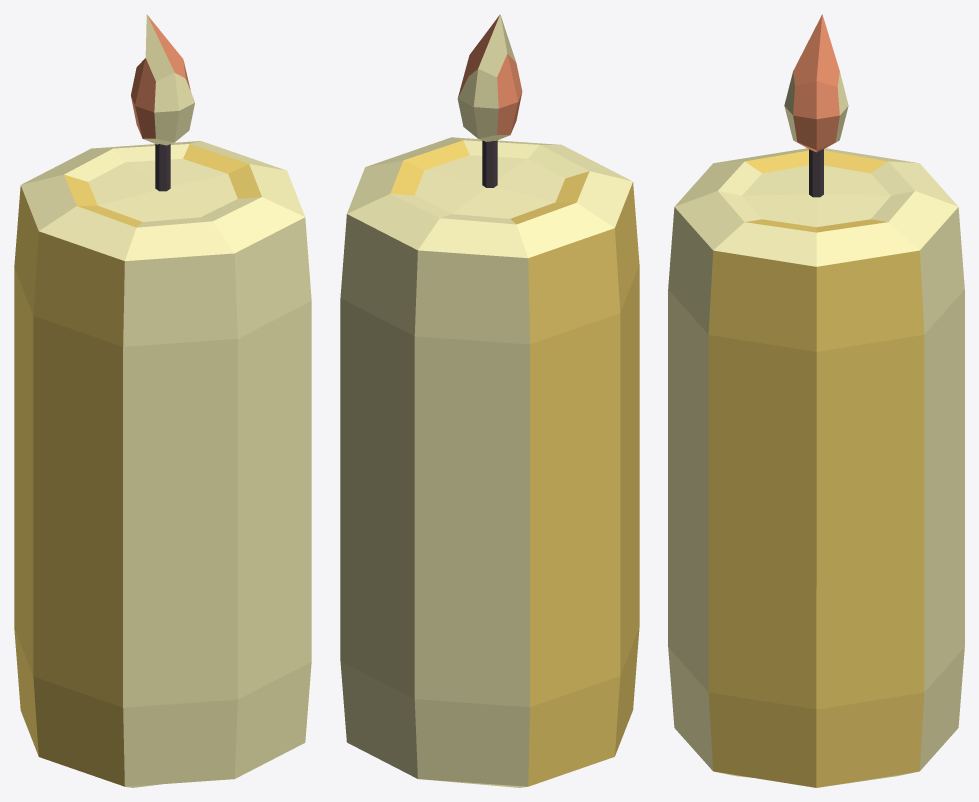
Rendered from Candle.fbx.
3 renders of one model, left to right at view 1: azimuth 30°, elevation 25°; view 2: azimuth 150°, elevation 25°; view 3: azimuth 270°, elevation 25°, orthographic.
Parts seen in each view (by area): view 1: Candle; view 2: Candle; view 3: Candle.
Part boxes in pixels (bbox=[...]): Candle: bbox=[14, 14, 311, 787]; Candle: bbox=[340, 14, 639, 787]; Candle: bbox=[668, 14, 964, 787].
Bounding box in the file's own units: 19.04 × 51.23 × 19.04.
